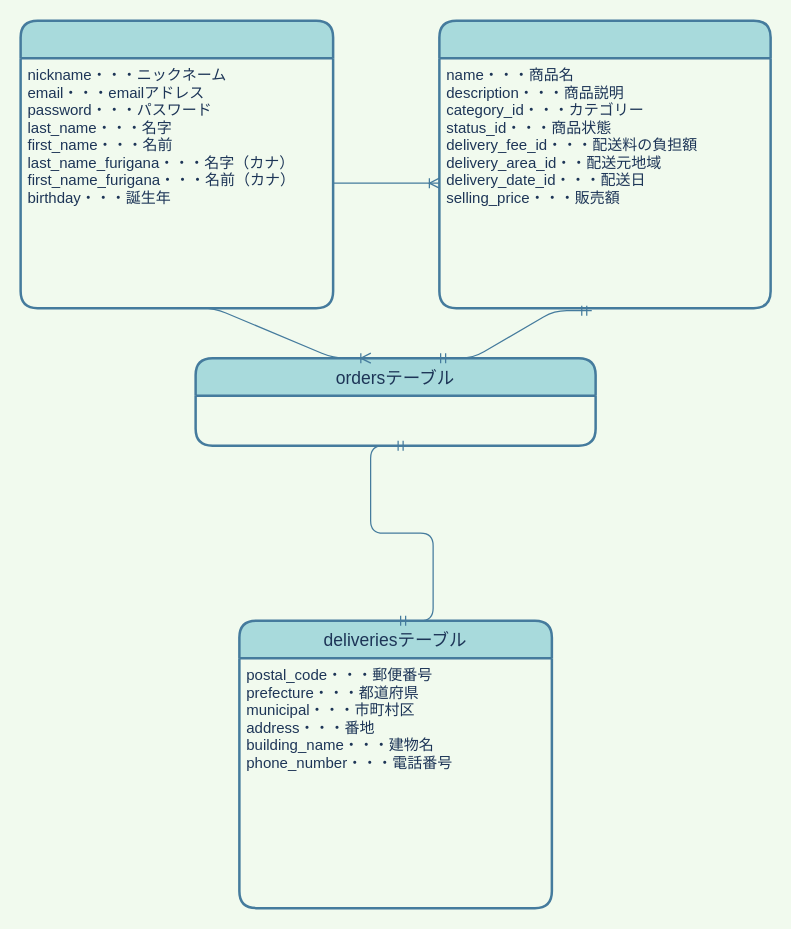
Some shapes in this 791 by 929 pixel diagram are drawn without their labels. The box of each missing label's shape, as (x1, y1, x2, y2) in pixels:
itemsテーブル: (438, 19, 771, 309)
usersテーブル: (19, 19, 334, 309)
